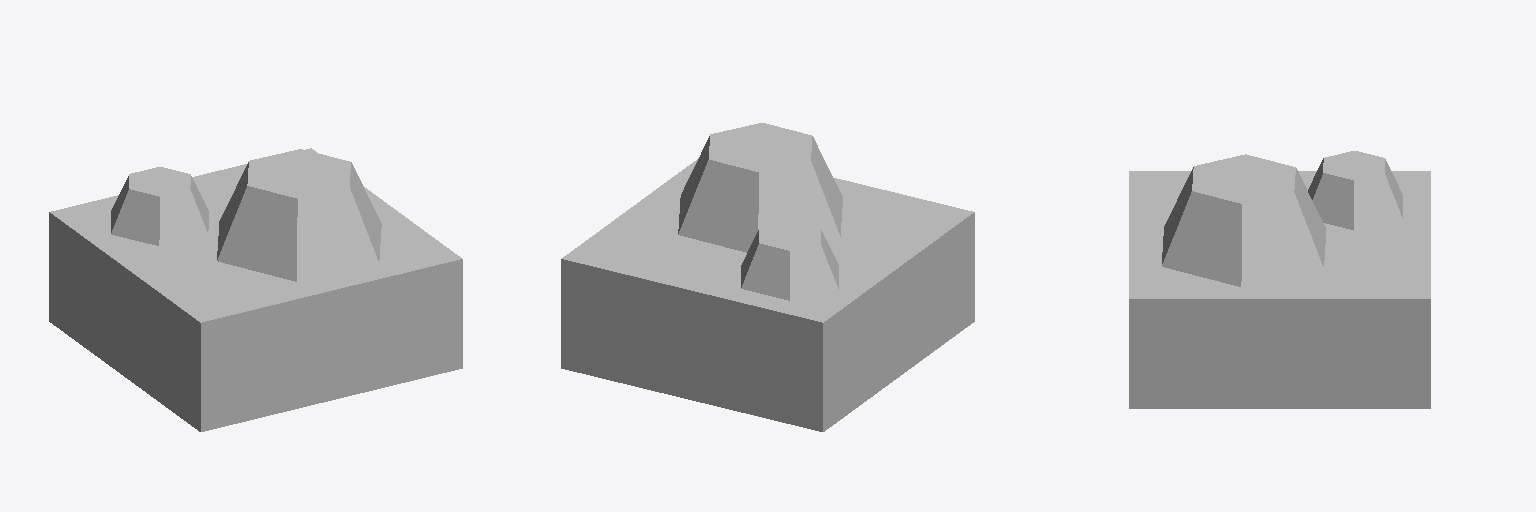
File: towerDefense_079.obj
3 renders of one model, left to right at view 1: azimuth 30°, elevation 25°; view 2: azimuth 150°, elevation 25°; view 3: azimuth 270°, elevation 25°, orthographic.
Visible parts, largest first — view 1: Mesh3 Group1 Model, Mesh2 Group3 Group1 Model, Mesh1 Group2 Group1 Model; view 2: Mesh3 Group1 Model, Mesh2 Group3 Group1 Model, Mesh1 Group2 Group1 Model; view 3: Mesh3 Group1 Model, Mesh2 Group3 Group1 Model, Mesh1 Group2 Group1 Model.
Part boxes in pixels (left/top/right/bottom): Mesh3 Group1 Model: left=49, top=148, right=462, bottom=431; Mesh2 Group3 Group1 Model: left=217, top=149, right=381, bottom=281; Mesh1 Group2 Group1 Model: left=111, top=167, right=208, bottom=245; Mesh3 Group1 Model: left=561, top=158, right=974, bottom=431; Mesh2 Group3 Group1 Model: left=678, top=123, right=842, bottom=252; Mesh1 Group2 Group1 Model: left=741, top=221, right=838, bottom=300; Mesh3 Group1 Model: left=1129, top=171, right=1430, bottom=408; Mesh2 Group3 Group1 Model: left=1162, top=154, right=1326, bottom=286; Mesh1 Group2 Group1 Model: left=1308, top=151, right=1402, bottom=229.
Size of the model in its own units: 1 by 0.65 by 1.